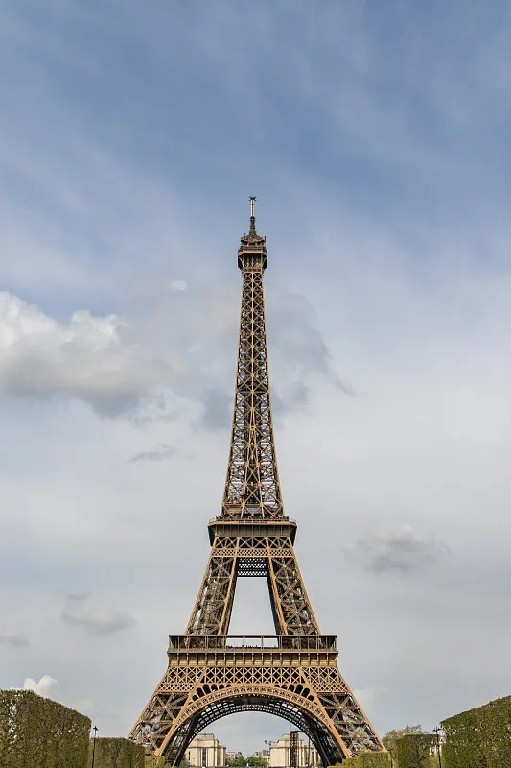Eiffel: (127, 196, 389, 762)
